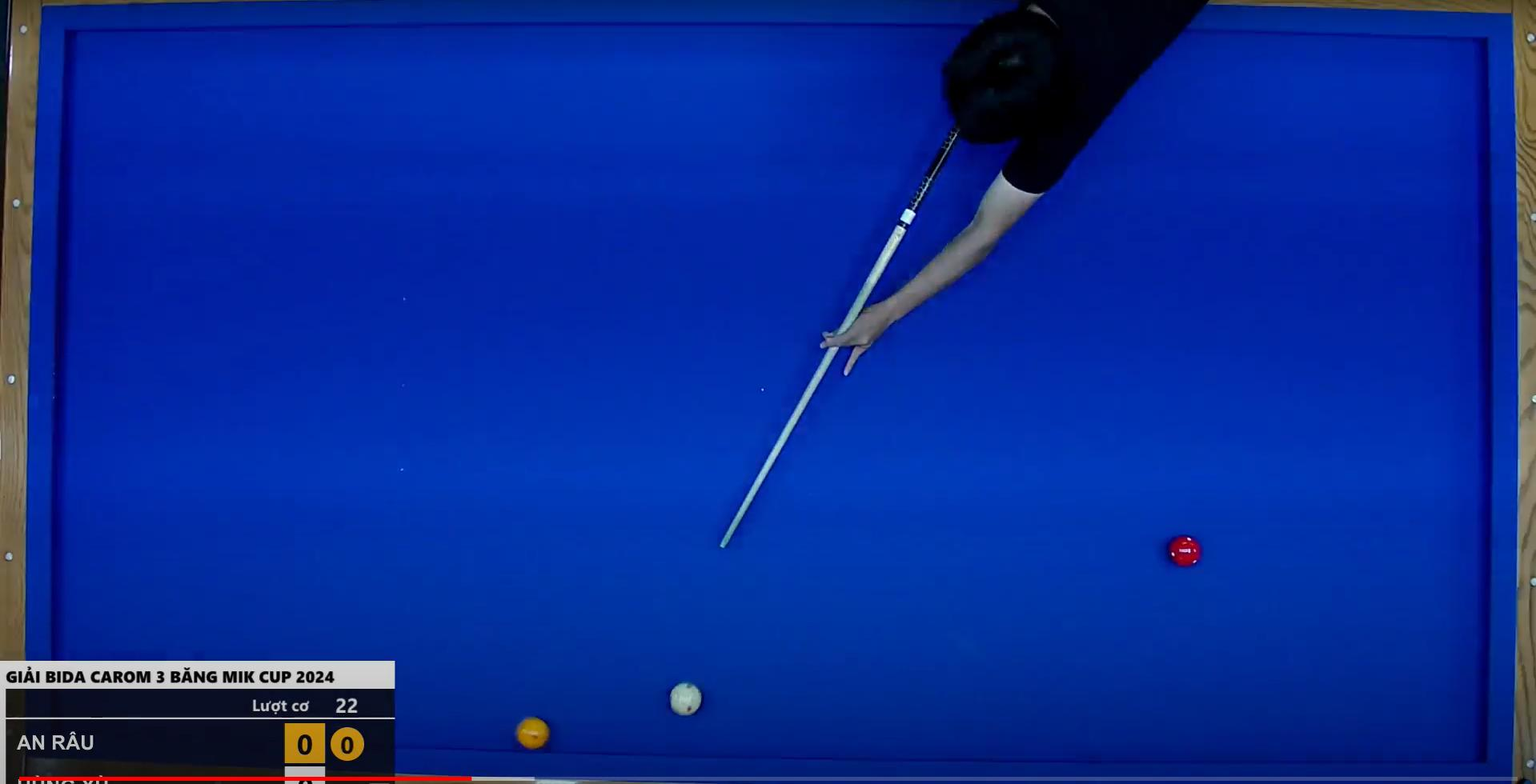red ball: (1160, 529, 1211, 573)
white ball: (663, 677, 705, 720)
yellow ball: (512, 713, 554, 754)
